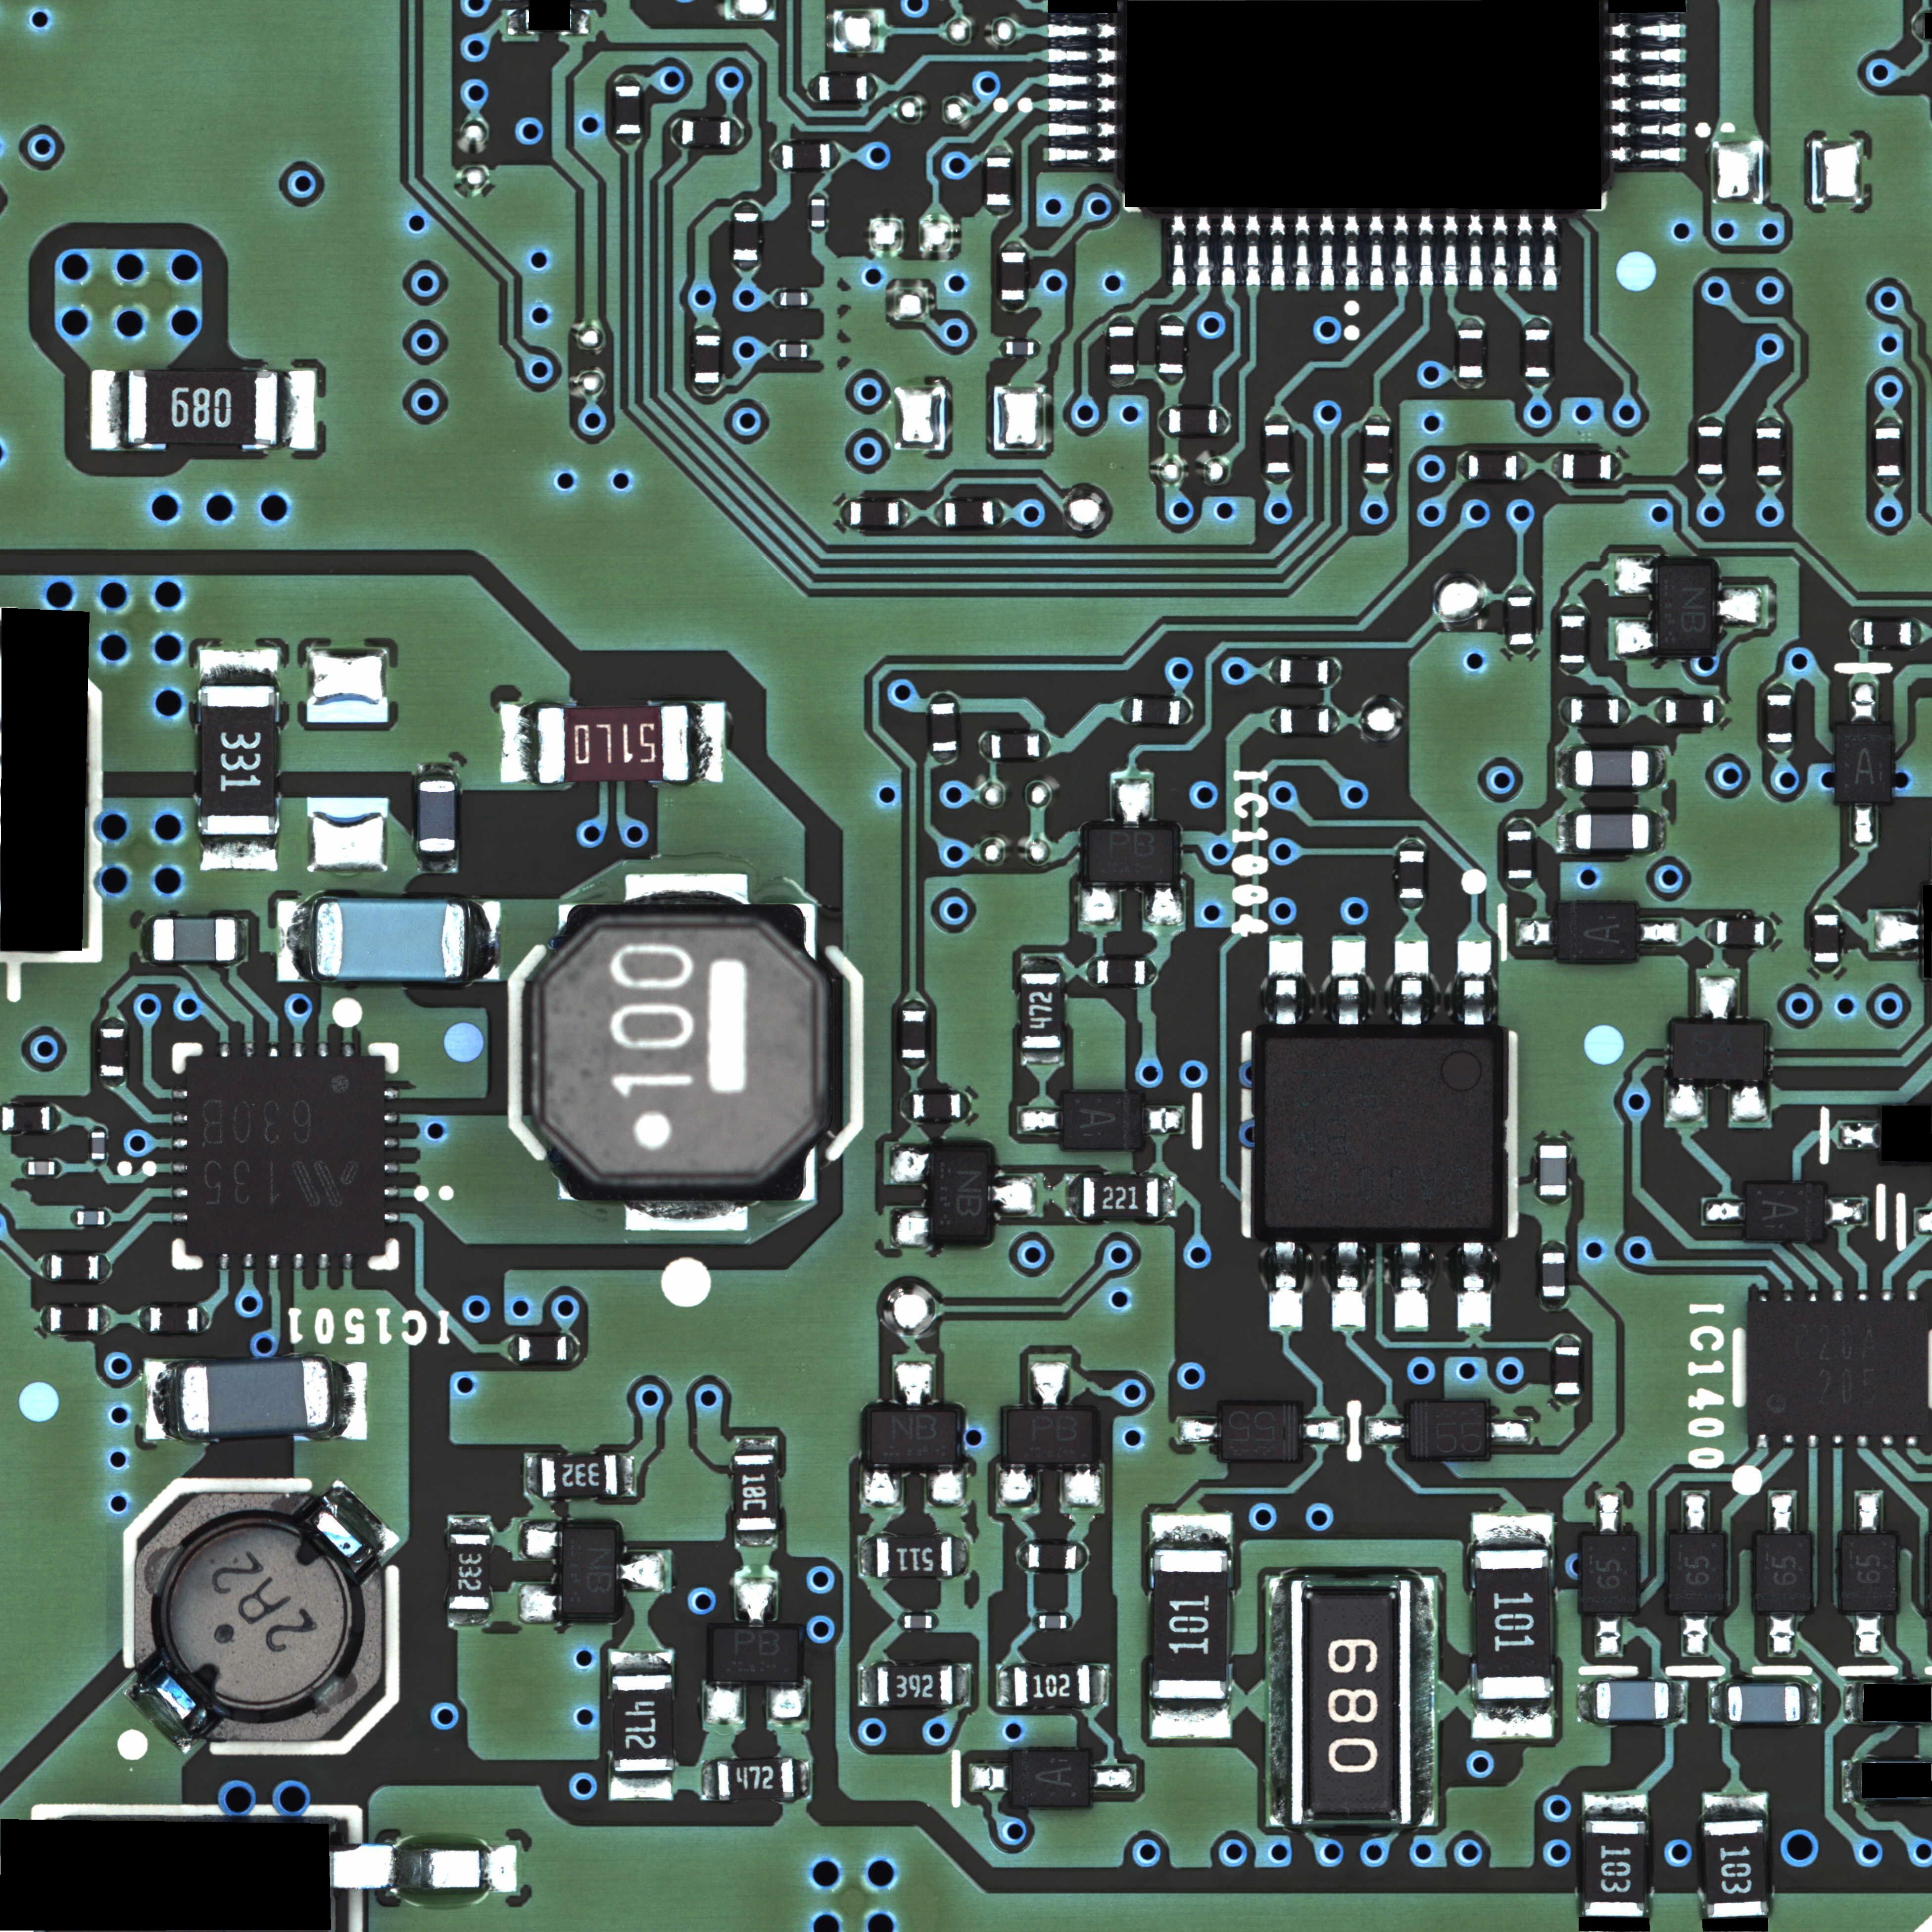Package: (77, 1438, 440, 1797), (531, 905, 827, 1202), (1256, 1024, 1504, 1242), (188, 1058, 384, 1253), (1291, 1580, 1410, 1824), (1748, 1303, 1929, 1433), (317, 898, 464, 980), (1474, 1549, 1552, 1698), (537, 707, 688, 783), (180, 1359, 328, 1434), (1154, 1550, 1228, 1698), (201, 686, 275, 834), (130, 370, 276, 445), (1704, 1821, 1769, 1919), (1584, 1820, 1646, 1917), (612, 1676, 674, 1771), (1672, 1023, 1764, 1078), (1659, 563, 1712, 651), (934, 1150, 987, 1237), (714, 1628, 799, 1682), (1007, 1411, 1094, 1463), (869, 1411, 957, 1463), (1088, 829, 1172, 882), (563, 1529, 616, 1613), (1063, 1093, 1142, 1148), (1223, 1404, 1299, 1461), (1746, 1183, 1824, 1239), (1558, 904, 1636, 959), (1012, 1752, 1089, 1807), (1410, 1401, 1486, 1457), (1841, 1534, 1895, 1611), (1583, 1535, 1636, 1613), (1756, 1534, 1810, 1612), (1669, 1533, 1722, 1611), (1837, 724, 1888, 801), (153, 918, 236, 961), (734, 1454, 776, 1530), (717, 1759, 793, 1800), (1014, 1665, 1089, 1706), (448, 1534, 489, 1609), (542, 1454, 617, 1496), (878, 1664, 952, 1705), (1021, 973, 1061, 1048), (1083, 1178, 1158, 1217), (877, 1538, 951, 1576), (1596, 1681, 1669, 1720), (1728, 1685, 1800, 1723), (1574, 750, 1649, 786), (418, 780, 456, 851), (1576, 814, 1649, 850), (1540, 1145, 1567, 1195), (1697, 425, 1723, 475), (1562, 453, 1610, 480), (1876, 427, 1901, 477), (1756, 427, 1782, 477), (1028, 1543, 1076, 1570), (1814, 914, 1840, 962), (682, 120, 731, 146), (1108, 326, 1134, 374), (1132, 698, 1179, 724), (1508, 595, 1533, 644), (1767, 694, 1792, 743), (1169, 407, 1217, 433), (930, 703, 956, 751), (1159, 325, 1185, 373), (1001, 252, 1026, 299), (1716, 920, 1764, 946), (783, 143, 829, 169), (1281, 708, 1329, 733), (913, 1093, 961, 1118), (1525, 329, 1550, 377), (1571, 698, 1619, 723), (1665, 699, 1714, 724), (1863, 621, 1911, 646), (695, 336, 720, 383), (986, 157, 1012, 205), (1554, 1347, 1580, 1394), (1458, 329, 1482, 378), (1364, 425, 1389, 473), (1097, 960, 1145, 985), (150, 1306, 197, 1332), (850, 501, 898, 526), (616, 86, 640, 133), (902, 1010, 926, 1058), (1560, 615, 1584, 663), (1400, 851, 1424, 898), (733, 213, 758, 260), (819, 76, 868, 99), (1265, 425, 1289, 473), (1279, 659, 1328, 683), (1507, 830, 1532, 877), (51, 1255, 98, 1279), (518, 1337, 566, 1360), (945, 501, 993, 525), (991, 734, 1039, 758), (1469, 455, 1516, 479), (2, 1107, 49, 1131), (50, 1307, 97, 1331), (102, 1028, 125, 1076), (1542, 1253, 1565, 1297), (91, 1132, 105, 1159), (811, 200, 825, 227), (28, 1161, 55, 1175), (780, 292, 808, 306), (905, 1615, 931, 1629), (779, 344, 807, 357), (77, 1211, 104, 1224), (1039, 1615, 1066, 1629), (1006, 342, 1034, 355)
Solder: (338, 1843, 519, 1894), (318, 1476, 401, 1561), (121, 1674, 201, 1756), (1410, 1577, 1435, 1826), (1268, 1577, 1291, 1827), (626, 873, 748, 904), (626, 1203, 748, 1230), (277, 900, 316, 980), (1472, 1699, 1552, 1738), (1151, 1699, 1230, 1738), (90, 370, 128, 450), (277, 371, 315, 449), (689, 701, 725, 785), (329, 1361, 367, 1440), (500, 703, 536, 784), (466, 900, 501, 981), (1457, 1242, 1491, 1328), (1395, 1243, 1428, 1328), (1332, 1242, 1365, 1328), (1269, 1242, 1303, 1328), (199, 648, 279, 684), (1152, 1514, 1232, 1550), (1269, 940, 1303, 1024), (1332, 941, 1366, 1024), (198, 835, 278, 871), (1395, 940, 1429, 1024), (1458, 941, 1492, 1024), (1473, 1514, 1553, 1548), (145, 1361, 179, 1439), (988, 1175, 1036, 1217), (735, 1578, 776, 1627), (1111, 779, 1152, 829), (616, 1552, 665, 1593), (894, 1361, 934, 1410), (1713, 588, 1762, 628), (1030, 1361, 1070, 1410), (1698, 975, 1739, 1023), (1875, 912, 1921, 952), (610, 1771, 673, 1801), (1613, 620, 1658, 661), (861, 1463, 901, 1509), (1063, 1463, 1103, 1508), (1142, 883, 1184, 926), (998, 1463, 1038, 1508), (926, 1464, 966, 1508), (1703, 1792, 1768, 1820), (1079, 882, 1120, 926), (1614, 556, 1658, 595), (1666, 1079, 1706, 1123), (890, 1207, 933, 1248), (519, 1520, 562, 1561), (519, 1585, 562, 1625), (1730, 1079, 1770, 1123), (1583, 1793, 1649, 1819), (768, 1682, 808, 1724), (704, 1682, 744, 1724), (890, 1144, 933, 1183), (611, 1651, 673, 1675), (1609, 21, 1685, 38), (1608, 72, 1685, 89), (1609, 97, 1686, 114), (1611, 146, 1687, 163), (1610, 47, 1686, 63), (1610, 121, 1686, 138), (1541, 213, 1558, 287), (1492, 213, 1509, 287), (1468, 213, 1485, 287), (1317, 212, 1334, 286), (1243, 213, 1260, 286), (1218, 213, 1236, 286), (1194, 213, 1211, 286), (1170, 213, 1187, 286), (1343, 213, 1360, 287), (1442, 214, 1459, 287), (1417, 214, 1435, 287), (1394, 214, 1411, 287), (1369, 214, 1386, 287), (1293, 213, 1310, 286), (1516, 213, 1533, 287), (1269, 212, 1286, 286), (1090, 1766, 1134, 1792), (1366, 1418, 1409, 1445), (1487, 1419, 1530, 1445), (1636, 919, 1681, 945), (1143, 1107, 1183, 1134), (1300, 1417, 1341, 1444), (1825, 1199, 1867, 1226), (1838, 1123, 1881, 1149), (1851, 802, 1876, 846), (1019, 1108, 1063, 1133), (1850, 683, 1876, 724), (1703, 1199, 1746, 1224), (1684, 1612, 1708, 1655), (1517, 919, 1557, 945), (1596, 1613, 1621, 1656), (1179, 1418, 1223, 1442), (1048, 24, 1118, 39), (1047, 98, 1117, 113), (1049, 146, 1119, 161), (1049, 48, 1118, 63), (1597, 1493, 1621, 1535), (1856, 1612, 1881, 1653), (1770, 1612, 1794, 1653), (971, 1766, 1012, 1791), (1770, 1493, 1794, 1533), (1856, 1493, 1881, 1533), (1047, 74, 1117, 88), (1049, 122, 1118, 137), (1684, 1493, 1708, 1533), (1555, 810, 1575, 854), (416, 853, 456, 874), (1842, 1759, 1861, 1803), (1576, 1680, 1595, 1723), (1843, 1683, 1863, 1724), (1709, 1682, 1728, 1724), (1066, 1174, 1083, 1219), (953, 1664, 970, 1706), (1090, 1664, 1108, 1706), (735, 1529, 776, 1547), (952, 1536, 969, 1579), (1158, 1175, 1176, 1216), (1556, 747, 1573, 789), (1669, 1682, 1687, 1724), (794, 1758, 811, 1801), (1019, 956, 1062, 972), (860, 1537, 877, 1578), (860, 1664, 877, 1705), (1649, 811, 1666, 853), (1019, 1049, 1063, 1065), (449, 1516, 489, 1534), (1801, 1683, 1819, 1723), (416, 763, 458, 779), (525, 1455, 541, 1497), (618, 1455, 634, 1496), (998, 1665, 1014, 1707), (449, 1609, 490, 1626), (1650, 748, 1666, 787), (701, 1760, 717, 1801), (736, 1438, 775, 1453), (507, 9, 526, 36), (140, 918, 152, 960), (237, 917, 247, 963), (574, 9, 590, 34), (1849, 619, 1862, 646), (1158, 374, 1186, 386), (1040, 729, 1051, 760), (1107, 375, 1135, 387), (898, 501, 912, 527), (1542, 1298, 1567, 1310), (1764, 919, 1776, 947), (1076, 1543, 1088, 1571), (770, 143, 782, 169), (1000, 300, 1026, 312), (567, 1335, 579, 1362), (1217, 406, 1229, 434), (1180, 698, 1192, 725), (979, 731, 991, 760), (1611, 453, 1622, 481), (1913, 12, 1924, 41), (98, 1306, 111, 1331), (1328, 659, 1341, 685), (1620, 698, 1632, 724), (50, 1103, 61, 1132), (198, 1305, 210, 1332), (900, 1092, 912, 1119), (1875, 477, 1902, 488), (1559, 603, 1585, 615), (616, 134, 640, 147), (1146, 959, 1157, 986), (1813, 963, 1840, 974), (696, 383, 721, 395), (901, 1059, 926, 1071), (1508, 878, 1534, 890), (732, 200, 759, 212), (99, 1254, 111, 1280), (1554, 1334, 1581, 1346), (1697, 476, 1724, 487), (1550, 451, 1561, 479), (1715, 697, 1726, 725), (1525, 377, 1550, 389), (1554, 1395, 1579, 1406), (1517, 454, 1528, 481), (1264, 474, 1292, 484), (1765, 682, 1792, 693), (101, 1076, 125, 1089), (993, 501, 1005, 525), (932, 752, 957, 764), (732, 119, 743, 147), (830, 142, 840, 170), (807, 75, 819, 100), (1120, 697, 1131, 723), (1399, 839, 1424, 850), (1911, 620, 1922, 647), (694, 323, 718, 335), (1456, 455, 1468, 479), (986, 145, 1011, 157), (733, 262, 759, 273), (1506, 584, 1533, 595), (1541, 1240, 1565, 1252), (1400, 899, 1424, 911), (933, 501, 944, 526), (1264, 413, 1289, 425), (1269, 708, 1281, 732), (1653, 699, 1665, 724), (1704, 920, 1716, 945), (1017, 1543, 1028, 1569), (1506, 819, 1533, 829), (1508, 645, 1533, 656), (1559, 697, 1570, 723), (1540, 1196, 1568, 1206), (1524, 318, 1550, 329), (1086, 959, 1096, 985), (962, 1092, 972, 1119), (1268, 658, 1279, 682), (1561, 664, 1586, 675), (1330, 708, 1341, 734), (1813, 903, 1839, 914), (101, 1016, 123, 1028), (869, 75, 878, 102), (40, 1254, 50, 1278), (615, 75, 640, 85), (671, 119, 681, 145), (1109, 315, 1134, 325), (1158, 408, 1168, 434), (139, 1307, 149, 1332), (1458, 318, 1483, 328), (1539, 1136, 1567, 1145), (1000, 241, 1026, 250), (1756, 417, 1782, 427), (987, 205, 1012, 216), (1767, 743, 1791, 754), (839, 501, 849, 527), (1160, 314, 1185, 324), (1757, 477, 1783, 487), (1365, 474, 1389, 484), (1459, 378, 1483, 388), (902, 999, 925, 1010), (508, 1337, 518, 1360), (40, 1307, 50, 1331), (1875, 417, 1900, 426), (1365, 414, 1388, 424), (930, 693, 956, 702), (1697, 416, 1723, 425), (317, 1254, 330, 1270), (218, 1254, 230, 1270), (243, 1254, 255, 1270), (268, 1254, 280, 1270), (342, 1254, 354, 1270), (293, 1254, 304, 1270), (1806, 1435, 1820, 1448), (218, 1042, 230, 1058), (243, 1042, 255, 1057), (267, 1042, 279, 1057), (292, 1042, 304, 1058), (317, 1042, 329, 1057), (341, 1042, 353, 1058), (1756, 1435, 1769, 1448), (172, 1088, 187, 1100), (172, 1187, 187, 1199), (385, 1137, 399, 1149), (1782, 1435, 1796, 1447), (172, 1138, 187, 1149), (172, 1162, 187, 1174), (172, 1212, 187, 1223), (385, 1087, 399, 1099), (385, 1112, 399, 1123), (385, 1162, 399, 1174), (385, 1186, 399, 1198), (385, 1212, 399, 1223), (1905, 1290, 1919, 1302), (1905, 1435, 1919, 1447), (172, 1113, 187, 1124), (1881, 1290, 1895, 1302), (1831, 1290, 1844, 1302), (1856, 1290, 1869, 1302), (1881, 1436, 1894, 1447), (1831, 1435, 1843, 1447), (1856, 1436, 1869, 1447), (69, 1210, 77, 1226), (55, 1160, 62, 1177), (1758, 1291, 1770, 1302), (1783, 1291, 1794, 1302), (1808, 1291, 1819, 1302), (90, 1160, 106, 1167), (20, 1160, 28, 1176), (1031, 1613, 1039, 1630), (896, 1613, 904, 1629), (932, 1613, 939, 1630), (808, 342, 815, 359), (1035, 340, 1041, 357), (999, 339, 1005, 356), (1067, 1613, 1073, 1630), (772, 344, 779, 358), (808, 291, 815, 306), (773, 292, 779, 307), (105, 1210, 111, 1226), (812, 228, 825, 234), (91, 1125, 105, 1131), (811, 193, 824, 198)
